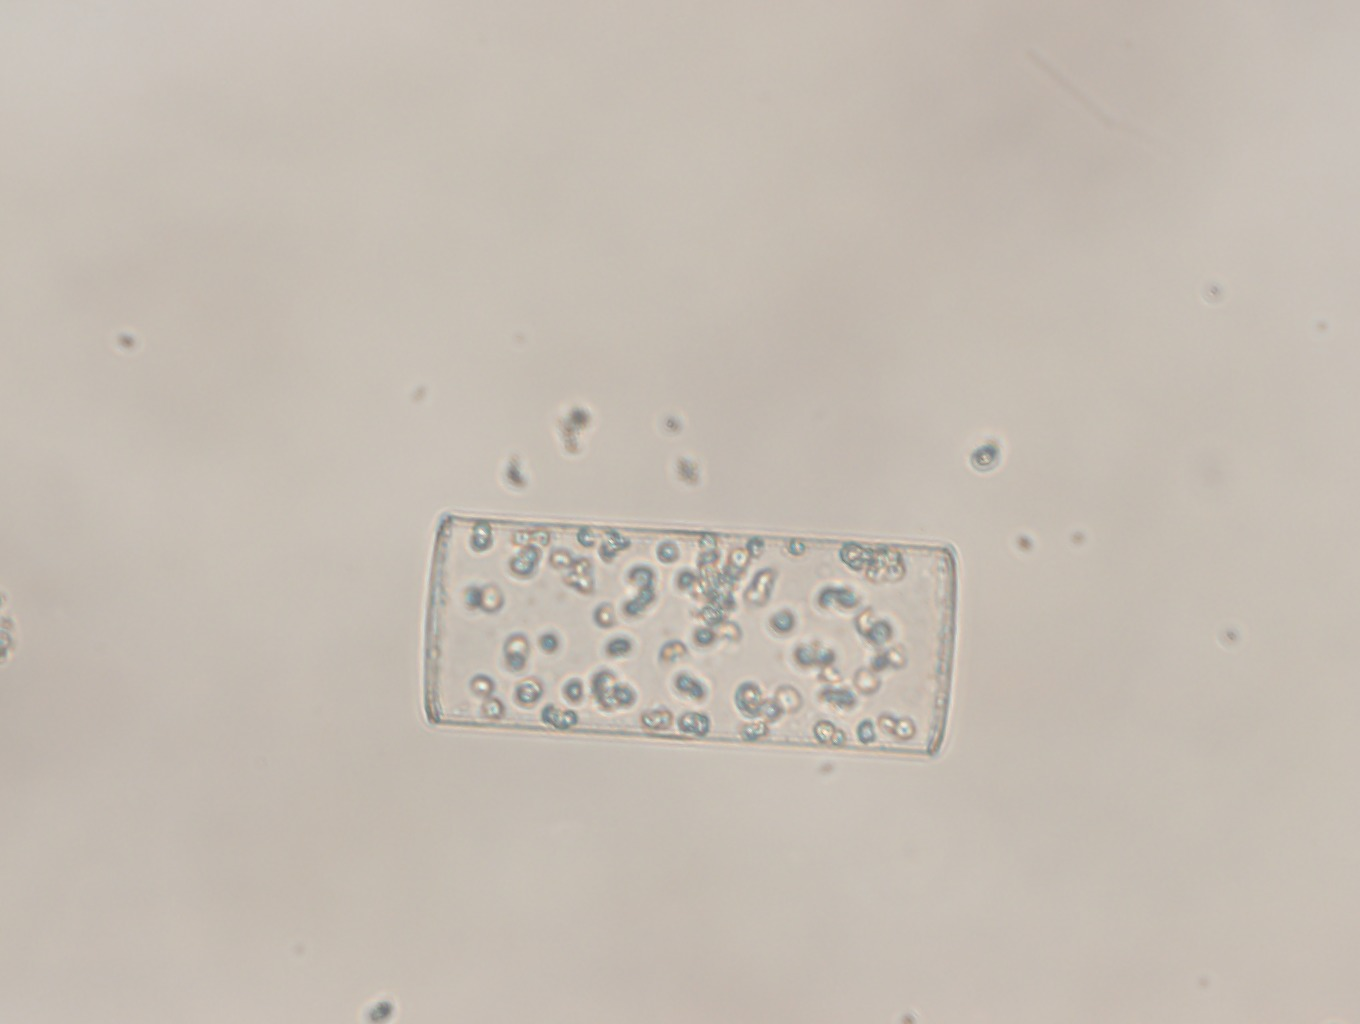guinardia flaccida: (416, 501, 963, 764)
